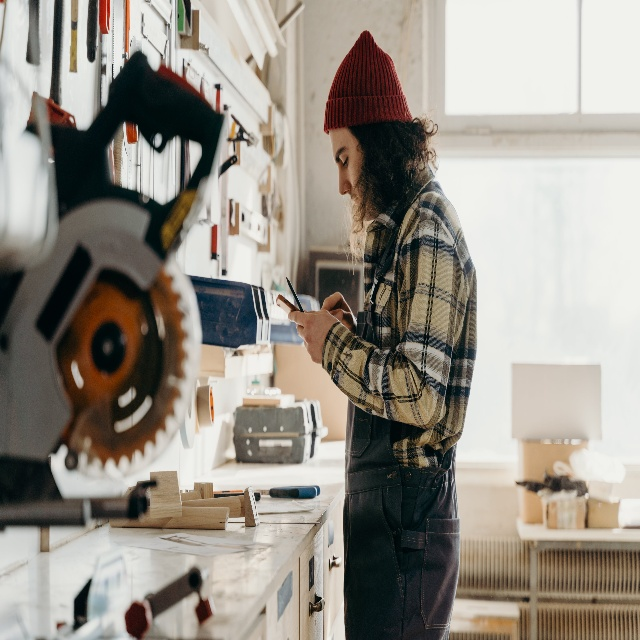Sin_guantes: (285, 309, 336, 369), (319, 289, 353, 334)
